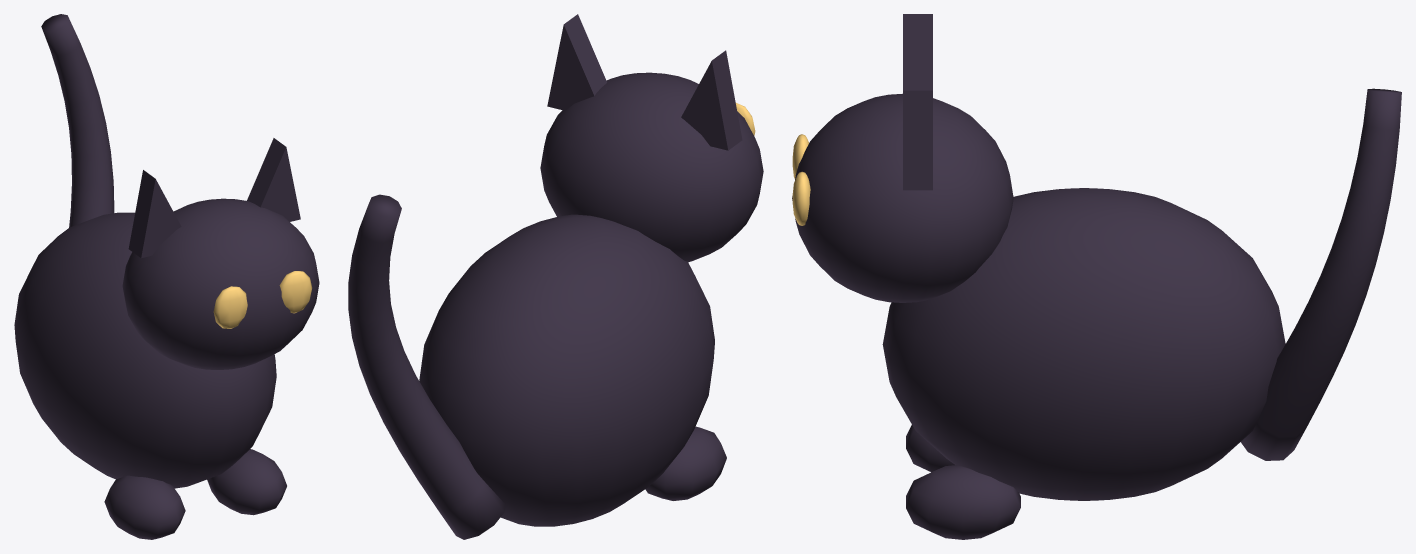
Rendered from black_cat.glb.
3 views of the same model, side by side, from view 1: azimuth 30°, elevation 25°; view 2: azimuth 150°, elevation 25°; view 3: azimuth 270°, elevation 25° (orthographic). The views are drawn at different scales.
Parts seen in each view (by area): view 1: LH_black_cat; view 2: LH_black_cat; view 3: LH_black_cat.
Boxes of the visible parts, x1,y1,x2,y2 form: LH_black_cat: [14, 14, 319, 539]; LH_black_cat: [348, 14, 763, 539]; LH_black_cat: [792, 14, 1401, 539].
Bounding box in the file's own units: 0.14 × 0.248 × 0.3027.
